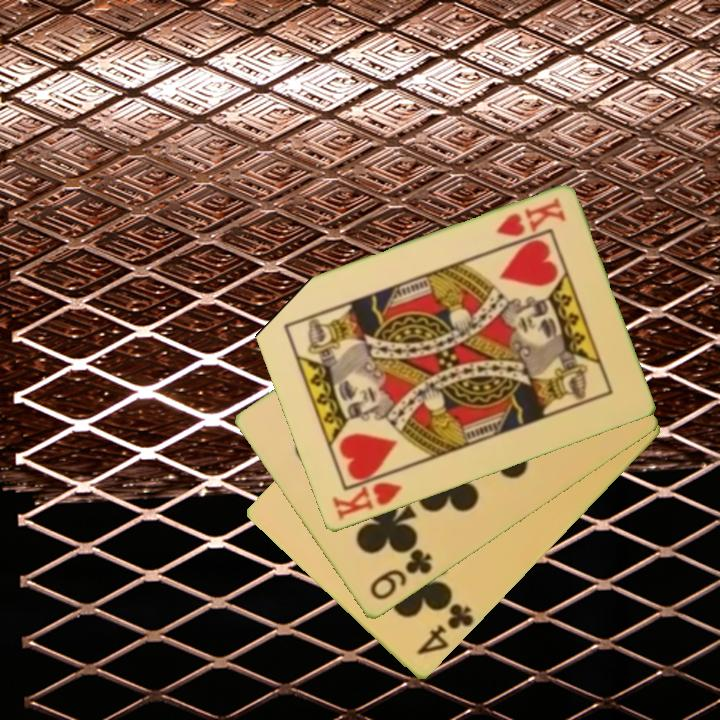4c: (413, 597, 477, 659)
9c: (366, 545, 435, 604)
Kh: (328, 467, 406, 523), (492, 194, 569, 240)
